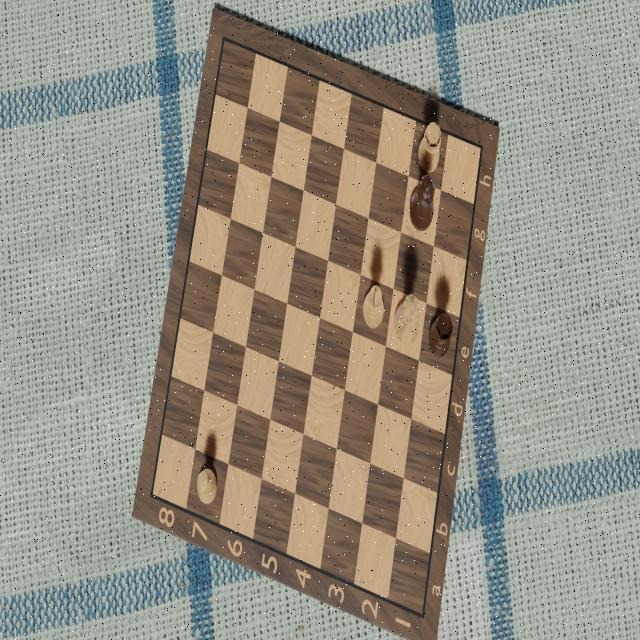black-king: (407, 174, 437, 236)
black-rook: (427, 310, 455, 361)
white-bishop: (360, 281, 385, 334)
white-king: (391, 289, 421, 346)
white-pawn: (195, 464, 220, 507)
white-rook: (417, 119, 443, 176)
